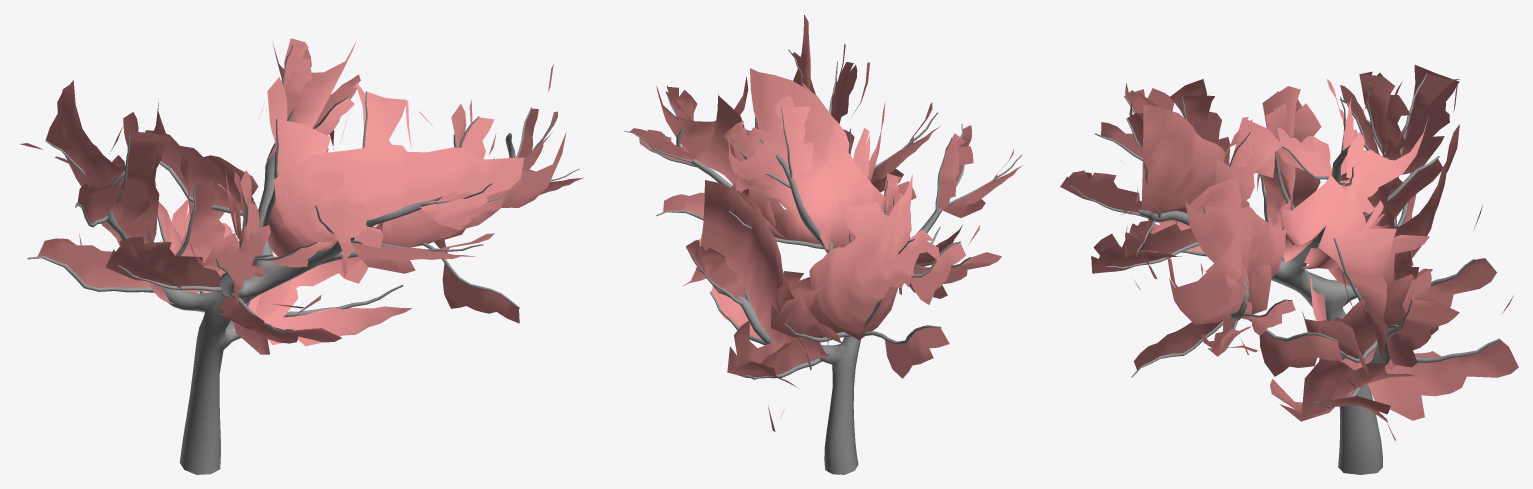
The model's file is CHN_PeachBlossom_Final.gltf.
3 renders of one model, left to right at view 1: azimuth 30°, elevation 25°; view 2: azimuth 150°, elevation 25°; view 3: azimuth 270°, elevation 25°, orthographic. The views are drawn at different scales.
Parts seen in each view (by area): view 1: CHN_PeachBlossom_Final; view 2: CHN_PeachBlossom_Final; view 3: CHN_PeachBlossom_Final.
Boxes of the visible parts, x1,y1,x2,y2 form: CHN_PeachBlossom_Final: (20,38,583,474); CHN_PeachBlossom_Final: (624,15,1023,474); CHN_PeachBlossom_Final: (1060,65,1518,474).
Bounding box in the file's own units: 3.71 × 3.24 × 3.08.
